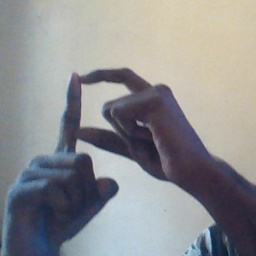D: (50, 63, 171, 176)
